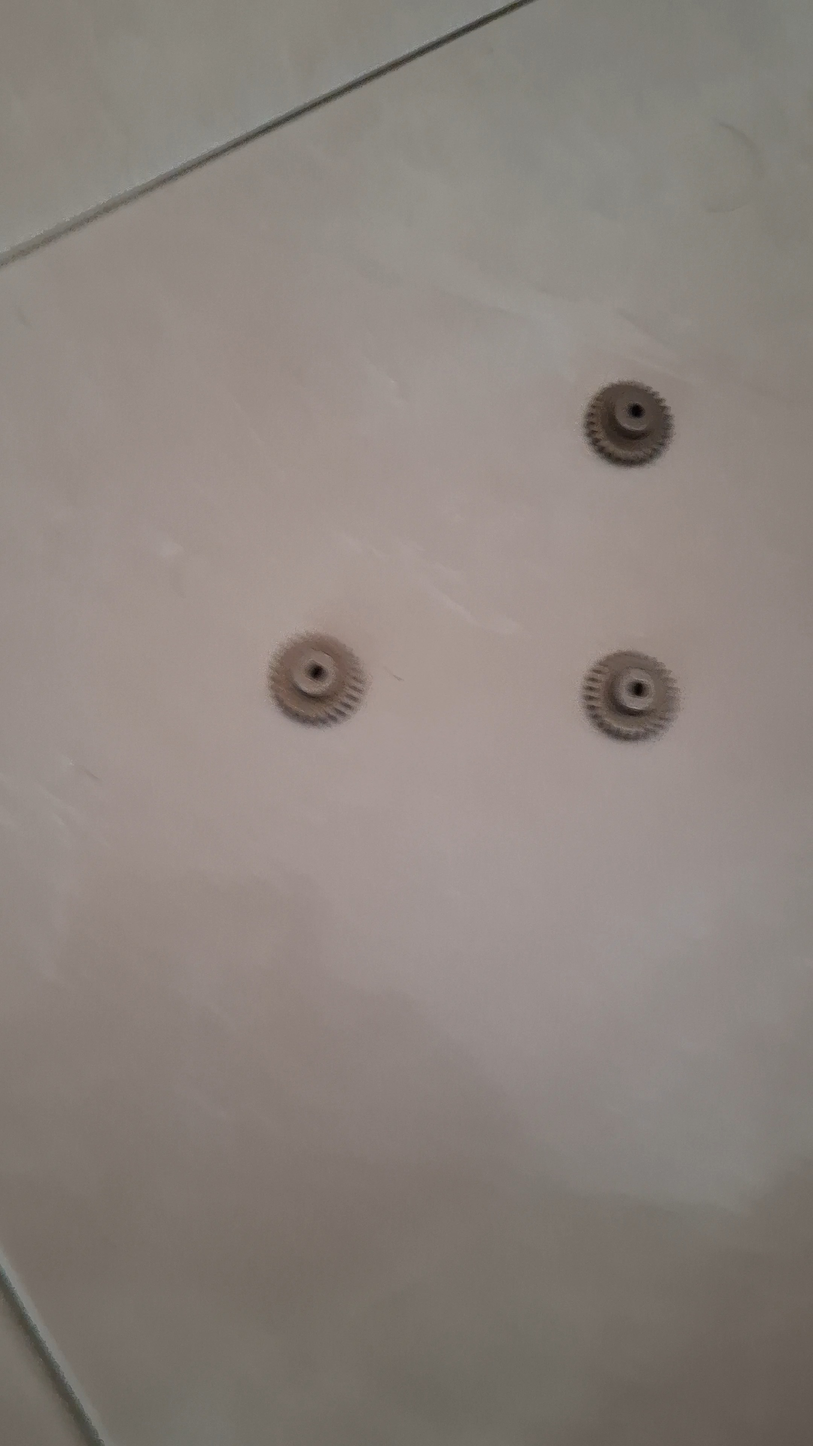spur gear: (268, 633, 366, 725), (582, 651, 679, 740), (584, 381, 673, 465)
